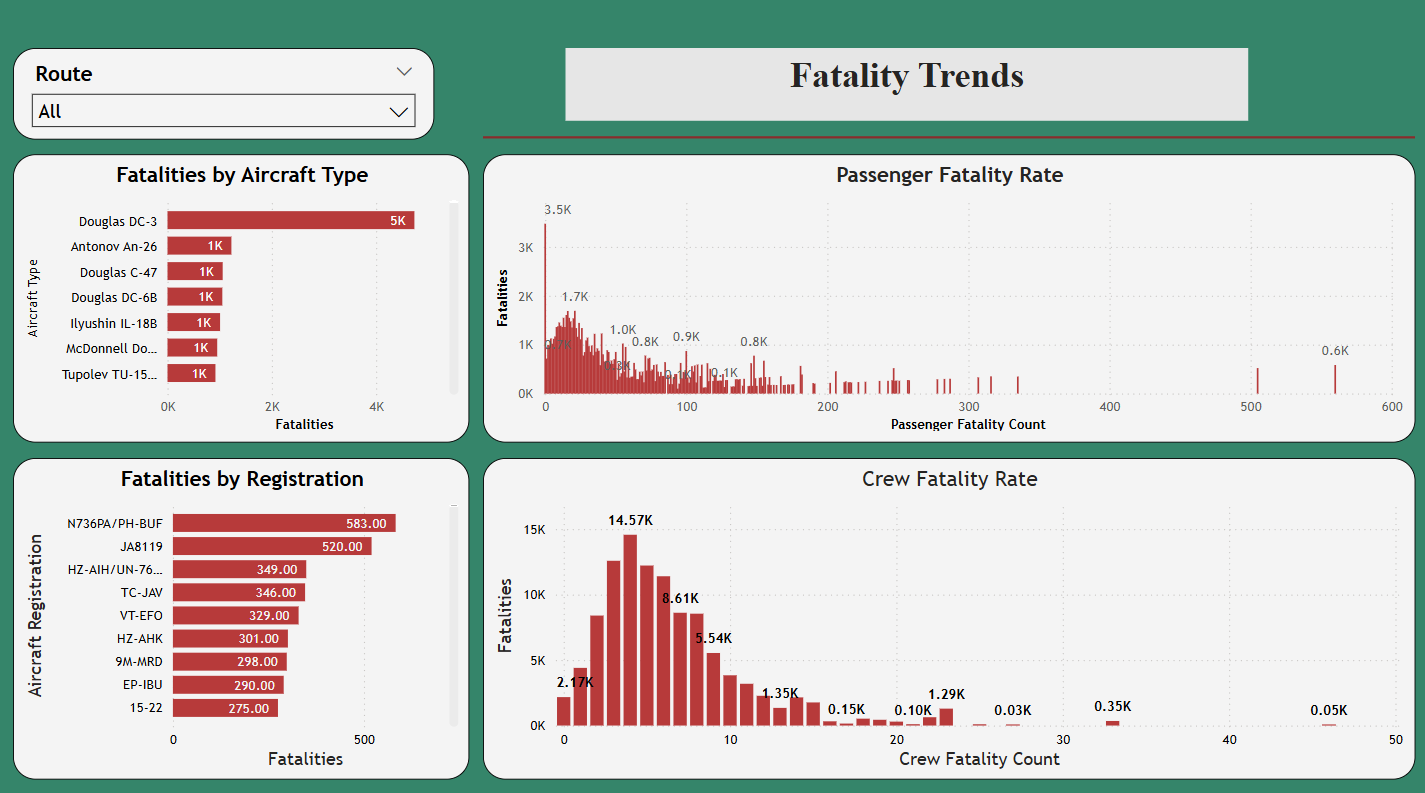

The dashboard page shown, as its layout file describes it:
{"tool":"powerbi","page":{"name":"Fatality Trends","canvas":[1280,720],"ordinal":2},"visuals":[{"type":"barChart","title":"Fatalities by Aircraft Type","fields":{"Category":["Sheet1.AC Type"],"Y":["Sum(Sheet1.Fatalities)"]},"box":[18.3,148.3,406.7,256.7],"z":0},{"type":"barChart","title":"Fatalities by Registration","fields":{"Category":["Sheet1.Registration"],"Y":["Avg(Sheet1.Fatalities)"]},"box":[18.3,418.3,406.7,286.7],"z":1000},{"type":"slicer","fields":{"Values":["Sheet1.Route"]},"box":[18.3,53.3,375,81.7],"z":2000},{"type":"columnChart","title":"Crew Fatality Rate","fields":{"Category":["Sheet1.Fatalities Crew"],"Y":["Sum(Sheet1.Fatalities)"]},"box":[436.7,418.3,830,286.7],"z":3000},{"type":"columnChart","title":"Passenger Fatality Rate","fields":{"Category":["Sheet1.Fatalities Passangers"],"Y":["Sum(Sheet1.Fatalities)"]},"box":[436.7,148.3,830,256.7],"z":4000},{"type":"shape","box":[436.7,118.3,830,30],"z":5000},{"type":"textbox","box":[510,53.3,608.3,65],"z":6000}]}

Visuals, with their boxes in screenshot pixels (x1, y1, x2, y2), scaled from the page's 1280x720 canvas onto the 1425x793 screenshot:
"Fatalities by Aircraft Type" barChart: pyautogui.locateOnScreen(20, 163, 473, 446)
"Fatalities by Registration" barChart: pyautogui.locateOnScreen(20, 461, 473, 776)
slicer - Sheet1.Route: pyautogui.locateOnScreen(20, 59, 438, 149)
"Crew Fatality Rate" columnChart: pyautogui.locateOnScreen(486, 461, 1410, 776)
"Passenger Fatality Rate" columnChart: pyautogui.locateOnScreen(486, 163, 1410, 446)
shape: pyautogui.locateOnScreen(486, 130, 1410, 163)
textbox: pyautogui.locateOnScreen(568, 59, 1245, 130)
